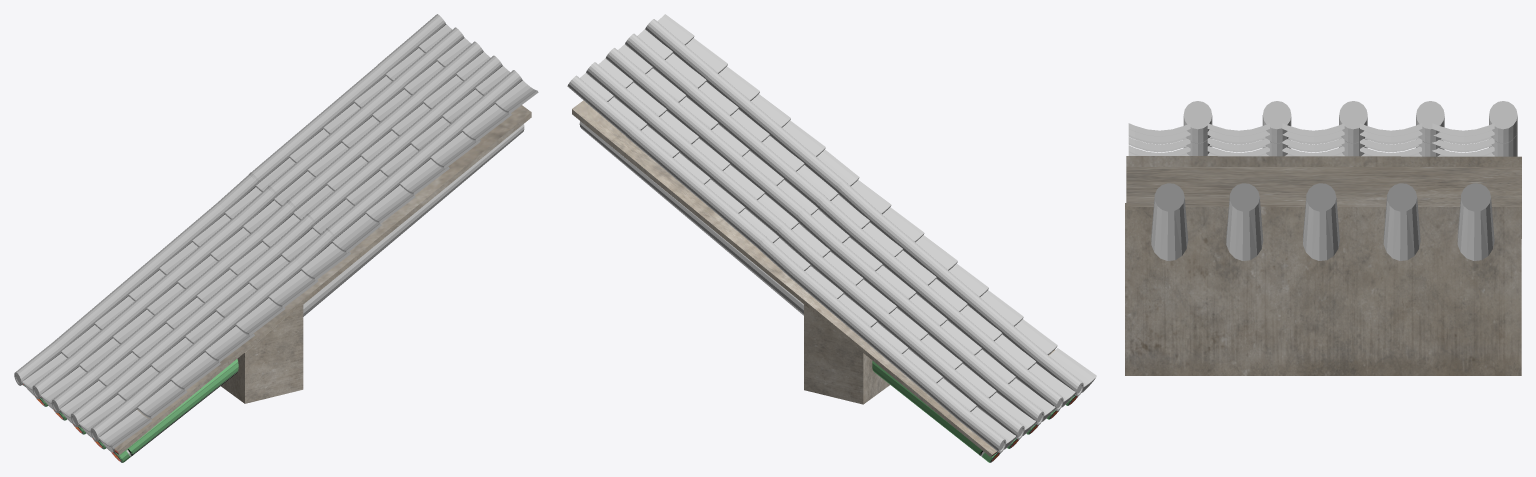
The model's file is SM_Roof_14.fbx.
3 renders of one model, left to right at view 1: azimuth 30°, elevation 25°; view 2: azimuth 150°, elevation 25°; view 3: azimuth 270°, elevation 25°, orthographic. The views are drawn at different scales.
Parts seen in each view (by area): view 1: SM_Roof_14; view 2: SM_Roof_14; view 3: SM_Roof_14.
Boxes of the visible parts, left/top/right/bottom form: SM_Roof_14: left=14, top=14, right=538, bottom=462; SM_Roof_14: left=567, top=14, right=1096, bottom=462; SM_Roof_14: left=1125, top=101, right=1521, bottom=375.
Size of the model in its own units: 527 by 211 by 337.
